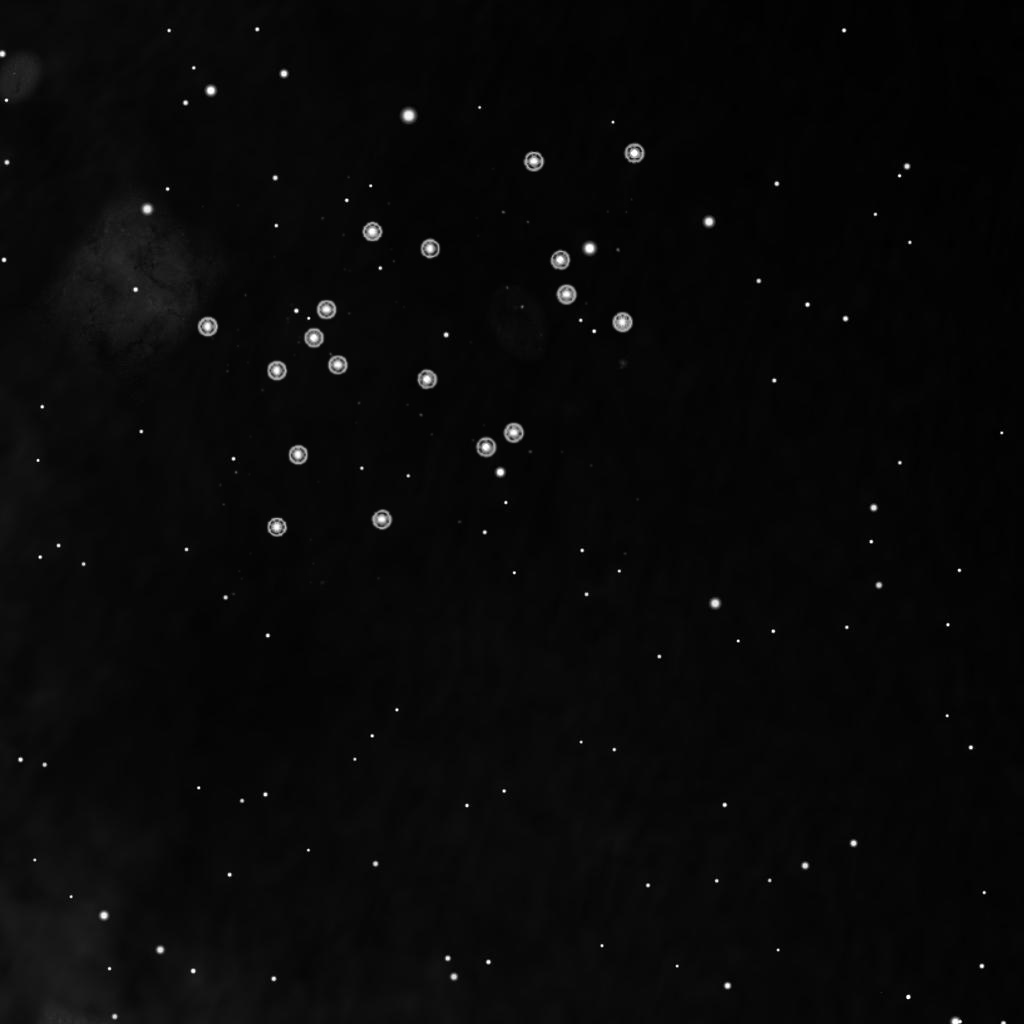canis_major: (261, 216, 444, 387)
